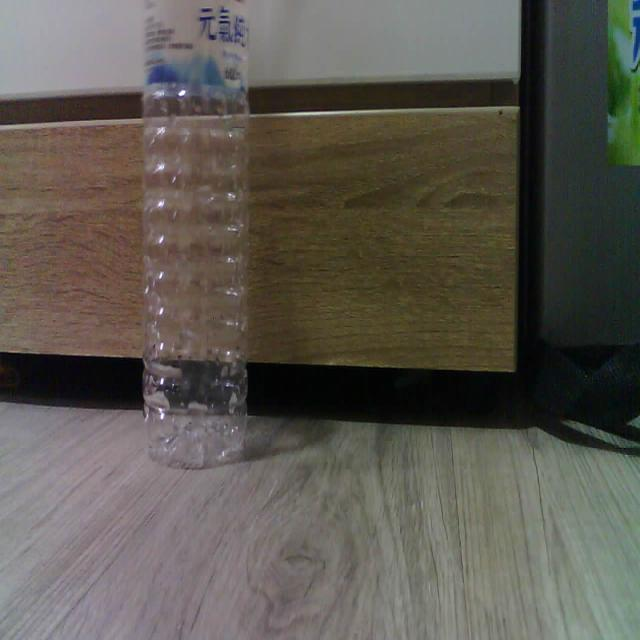bottle: (142, 0, 250, 468)
